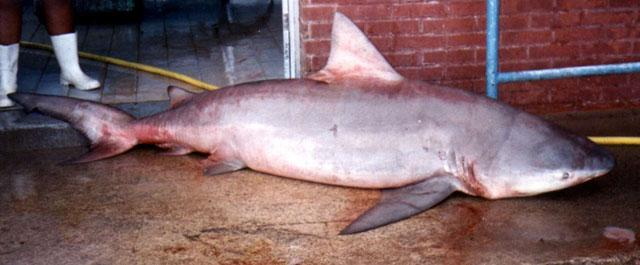Sirip Anal: (157, 79, 199, 171)
Sirip Dada: (330, 173, 470, 236)
Sirip Ekor: (0, 83, 148, 171)
Sirip Perut: (201, 152, 251, 186)
Sirip Punggung: (314, 8, 408, 94)
